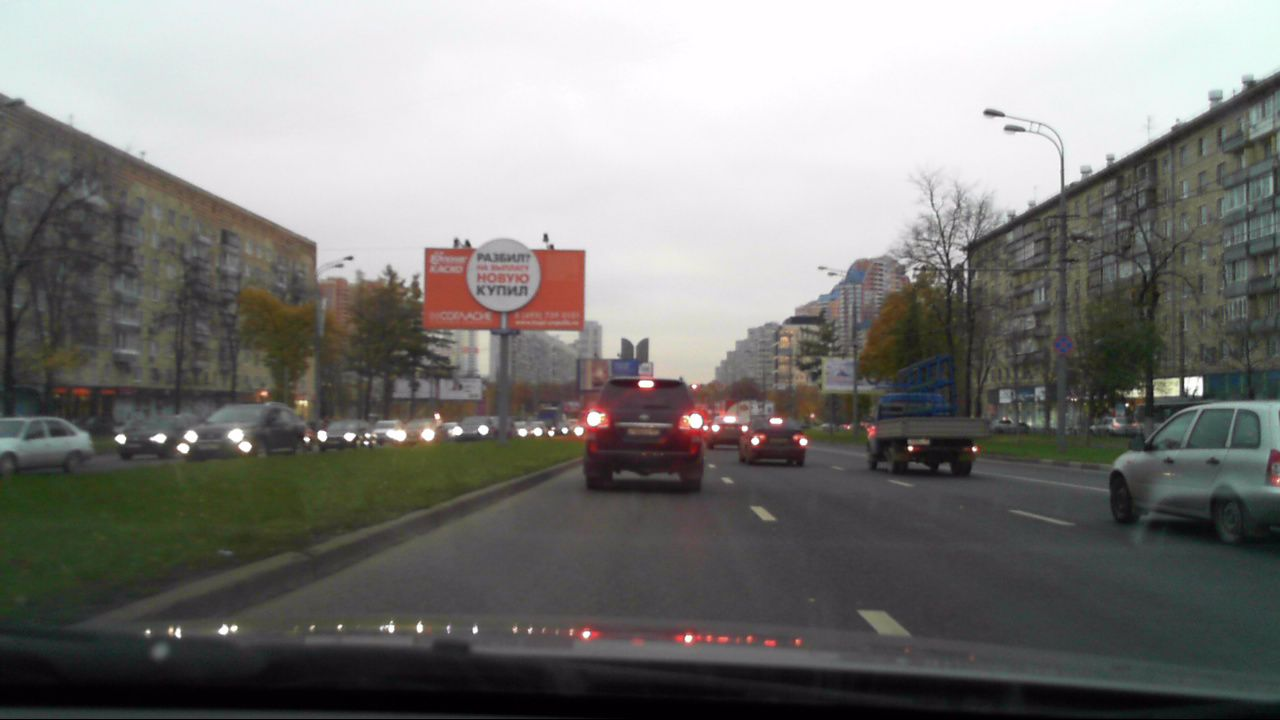No Parking: (1053, 334, 1073, 354)
